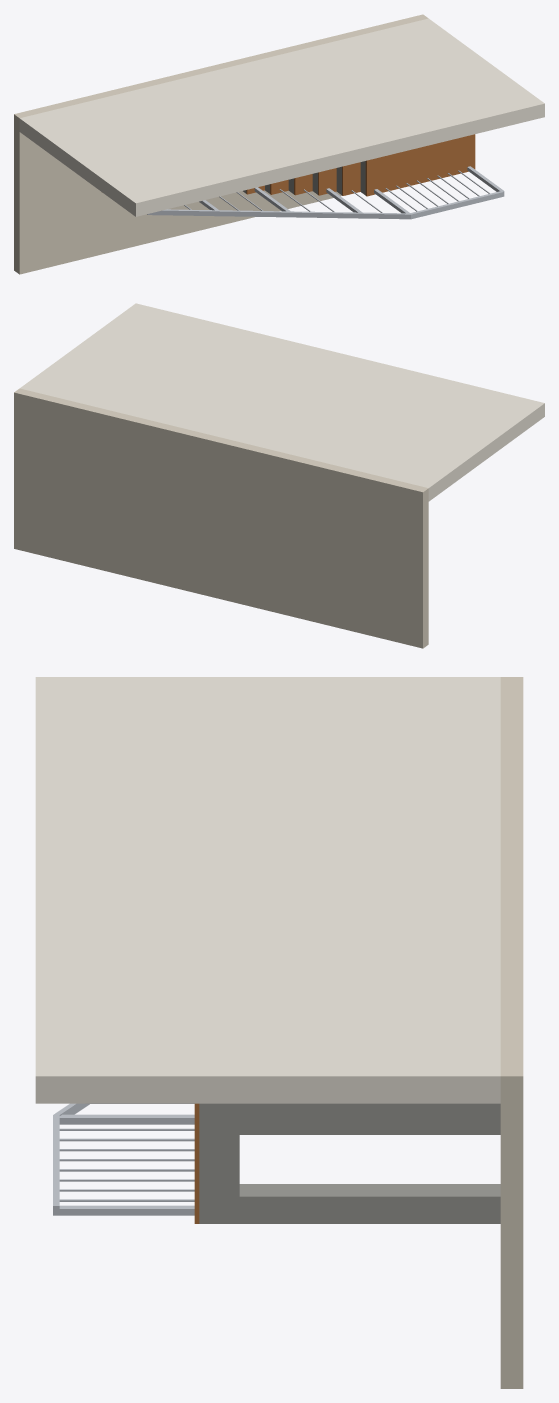
The model's file is Staircase_3D.obj.
3 views of the same model, one above another, from view 1: azimuth 30°, elevation 25°; view 2: azimuth 150°, elevation 25°; view 3: azimuth 270°, elevation 25° (orthographic). The views are drawn at different scales.
Size of the model in its own units: 6300 by 2300 by 3250.
